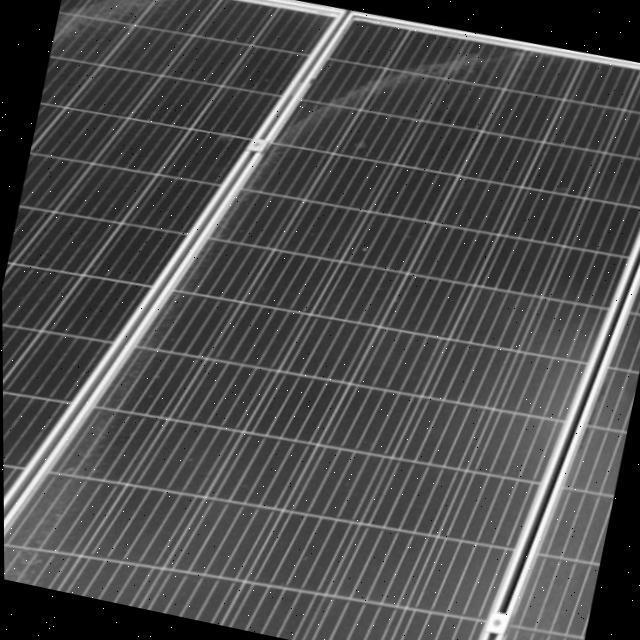Surface Contaminant: (269, 1, 534, 196), (3, 324, 158, 601), (496, 476, 601, 640), (52, 0, 183, 67)
